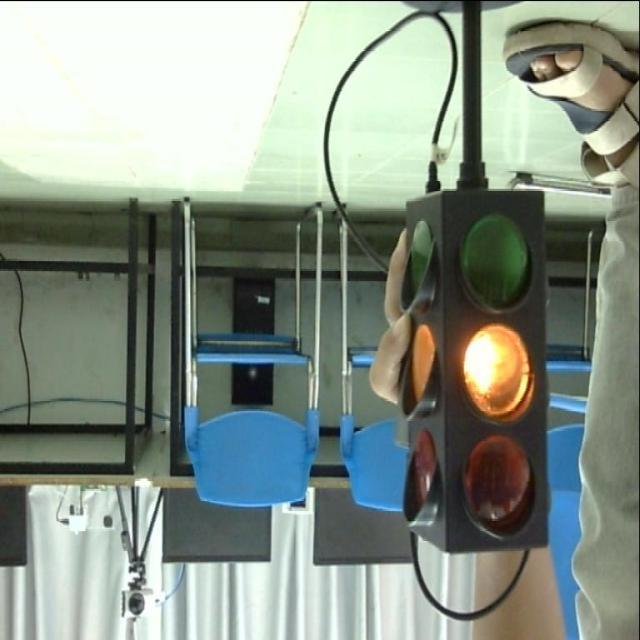yellow_light: (383, 189, 546, 550)
